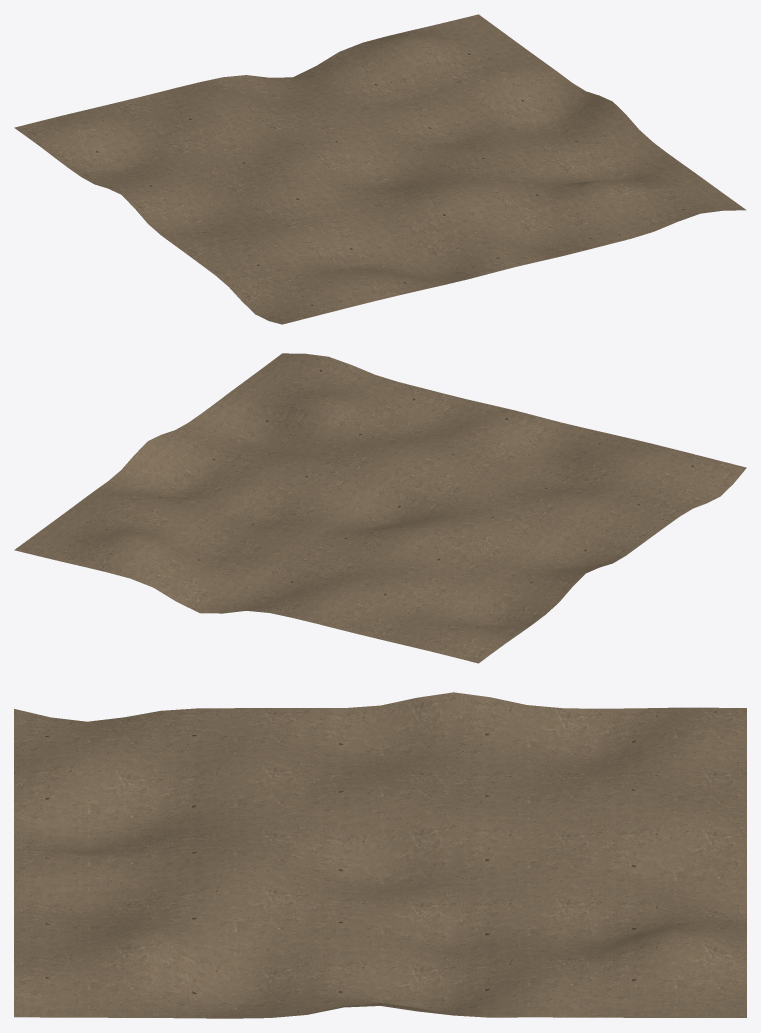
The model's file is Ground.fbx.
3 renders of one model, top to bottom at view 1: azimuth 30°, elevation 25°; view 2: azimuth 150°, elevation 25°; view 3: azimuth 270°, elevation 25°, orthographic. The views are drawn at different scales.
Visible parts, largest first — view 1: pPlane1; view 2: pPlane1; view 3: pPlane1.
Part boxes in pixels (x1=…): pPlane1: x1=14, y1=14, x2=746, y2=324; pPlane1: x1=14, y1=353, x2=746, y2=663; pPlane1: x1=14, y1=692, x2=746, y2=1018.
Bounding box in the file's own units: 50 × 3.44 × 50.
